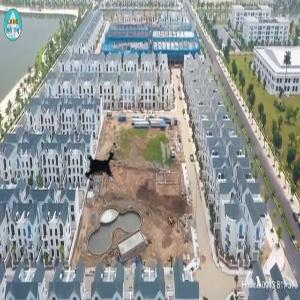drone: (77, 146, 127, 196)
